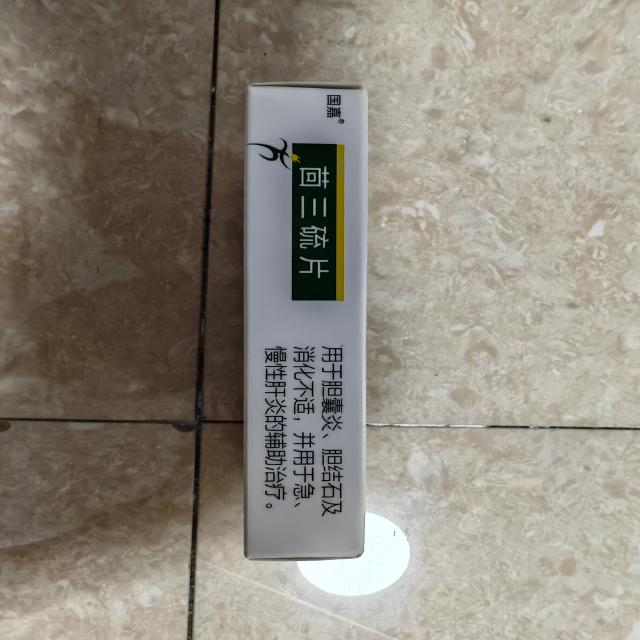box: (231, 76, 379, 570)
